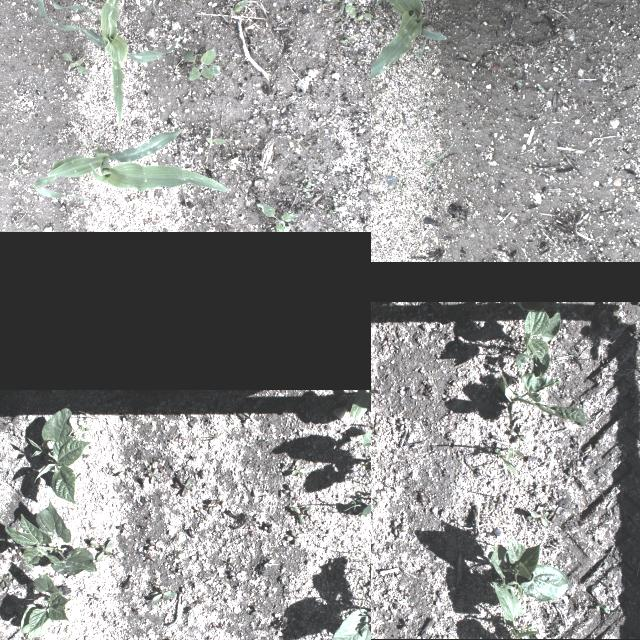crop: (56, 0, 197, 140), (34, 128, 232, 208), (371, 0, 446, 99), (2, 501, 96, 577), (26, 406, 90, 504), (490, 538, 568, 602), (496, 372, 586, 426), (33, 0, 194, 25), (510, 306, 560, 378), (325, 563, 371, 640), (19, 572, 68, 640), (490, 582, 538, 638), (516, 302, 560, 312), (504, 447, 522, 463)
weed: (405, 138, 455, 170), (180, 47, 220, 81), (255, 204, 295, 232), (498, 454, 524, 486), (400, 104, 436, 124), (348, 389, 371, 420), (321, 0, 356, 18), (342, 500, 363, 528), (62, 53, 88, 75), (389, 171, 408, 199), (89, 540, 113, 562), (492, 330, 511, 354), (288, 458, 312, 476), (174, 476, 193, 496), (149, 588, 175, 602), (525, 503, 545, 521), (294, 506, 312, 524), (72, 420, 90, 438), (530, 511, 550, 527), (420, 170, 434, 192), (508, 428, 526, 444), (546, 507, 562, 523), (285, 531, 303, 545), (12, 157, 28, 171), (338, 32, 360, 42), (302, 179, 312, 199), (526, 484, 540, 498), (208, 494, 224, 506), (204, 137, 226, 145), (233, 0, 246, 13), (357, 12, 371, 24), (242, 410, 256, 422), (148, 467, 158, 483), (177, 586, 187, 602), (86, 592, 102, 602), (191, 505, 205, 515), (148, 540, 162, 550), (116, 524, 130, 534), (10, 547, 20, 561), (0, 573, 10, 587), (482, 501, 496, 511), (544, 412, 558, 422), (82, 536, 95, 546), (492, 496, 502, 509), (418, 492, 427, 506), (371, 422, 380, 436), (288, 632, 303, 640), (282, 484, 292, 496), (204, 503, 214, 515), (85, 522, 97, 532), (105, 462, 115, 474), (596, 602, 608, 612), (486, 412, 498, 422), (178, 562, 186, 576), (389, 520, 396, 536), (396, 525, 404, 539), (144, 553, 154, 563), (146, 514, 156, 524), (250, 607, 262, 615), (228, 572, 240, 580), (371, 385, 378, 398), (536, 85, 546, 94), (174, 432, 183, 442), (493, 449, 502, 459), (332, 202, 340, 212), (188, 608, 198, 616), (304, 511, 312, 521), (193, 598, 203, 606), (603, 606, 613, 614), (446, 409, 454, 419), (372, 548, 382, 556), (425, 389, 435, 396), (371, 544, 376, 558), (536, 26, 546, 32), (374, 488, 384, 494), (86, 140, 92, 148), (81, 634, 89, 640), (4, 573, 12, 579), (374, 498, 380, 506), (98, 0, 113, 3), (0, 454, 3, 469), (388, 168, 394, 175), (558, 70, 564, 76), (548, 504, 554, 510), (371, 356, 374, 367), (87, 0, 95, 4), (182, 188, 190, 192), (514, 80, 522, 84), (398, 140, 406, 144), (629, 194, 635, 198), (21, 638, 31, 640), (596, 236, 602, 238)
